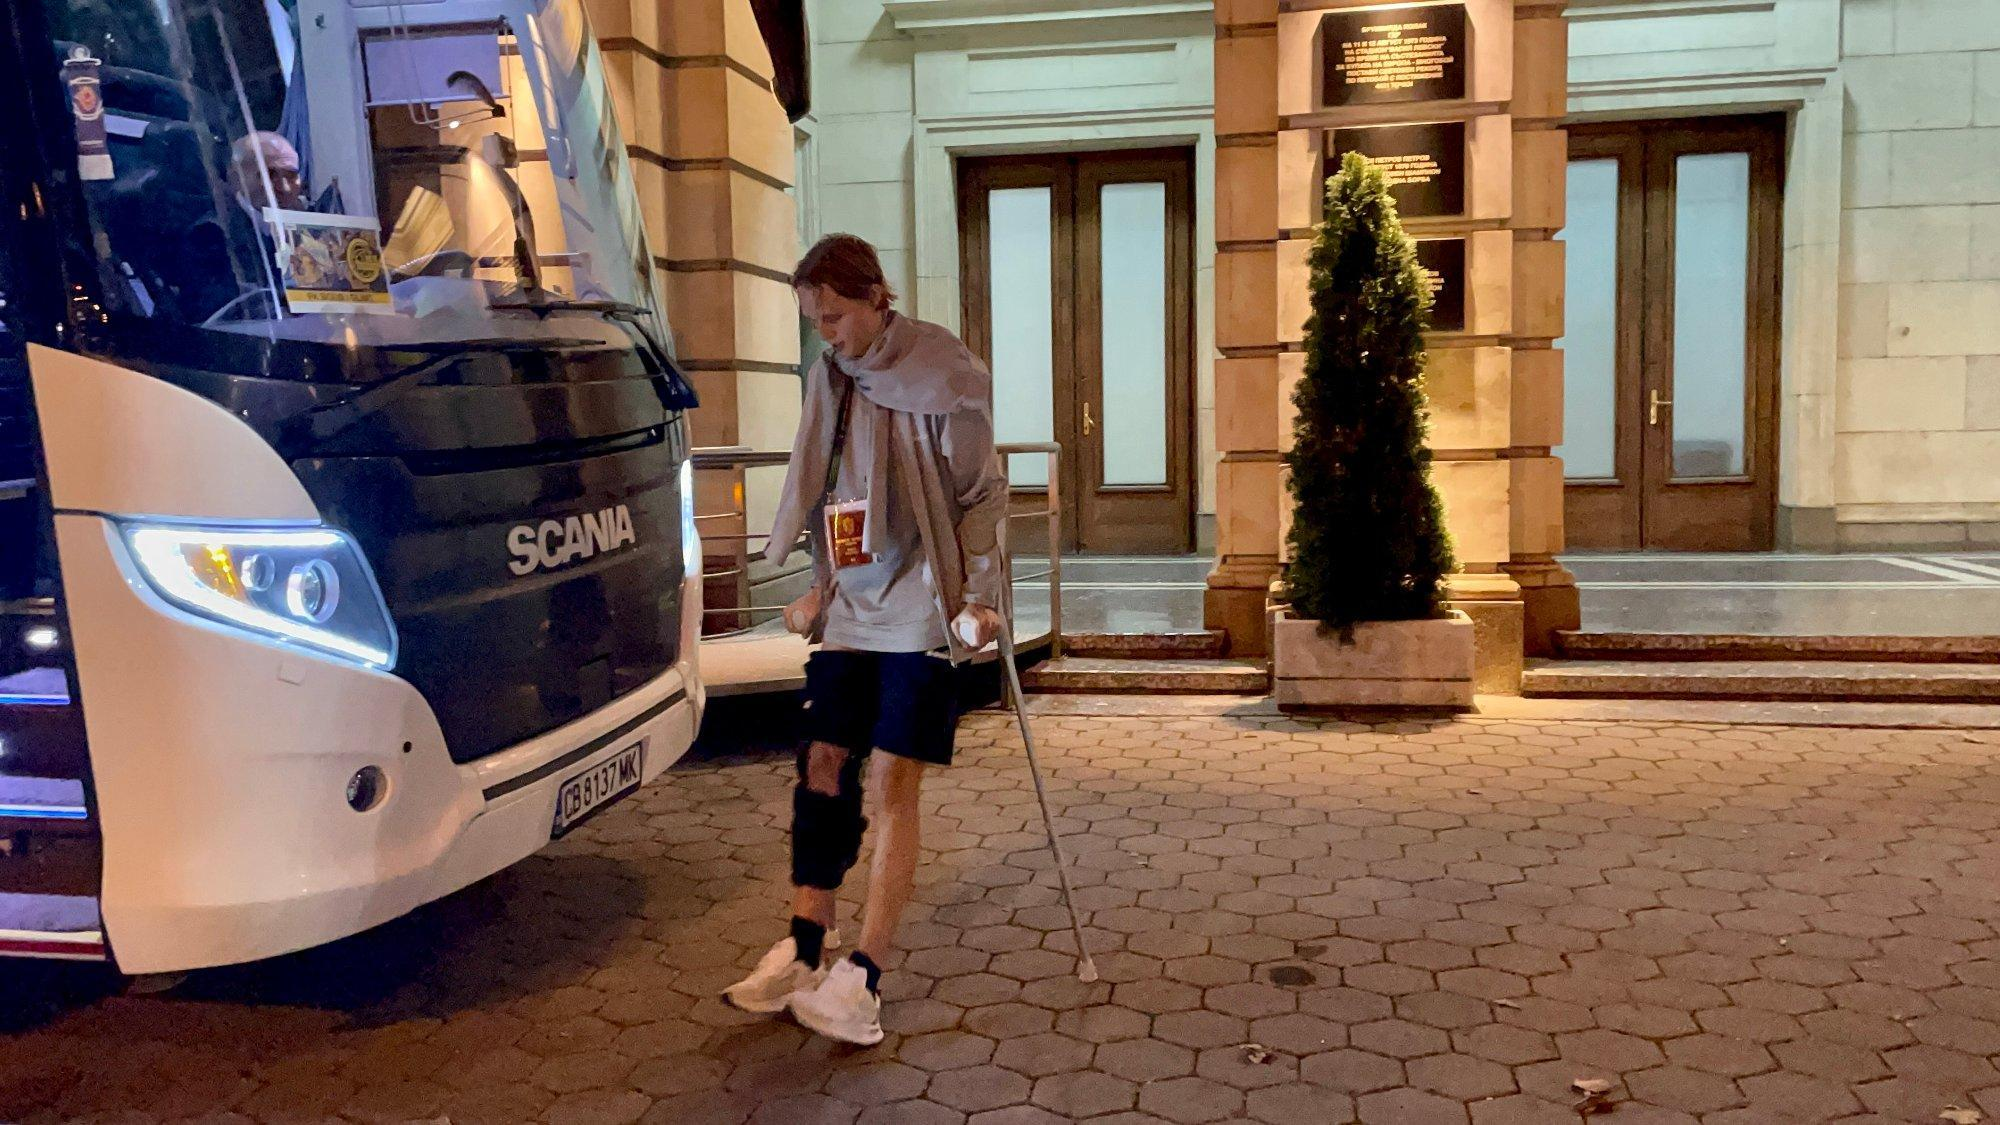crutches: (761, 209, 1104, 1063)
